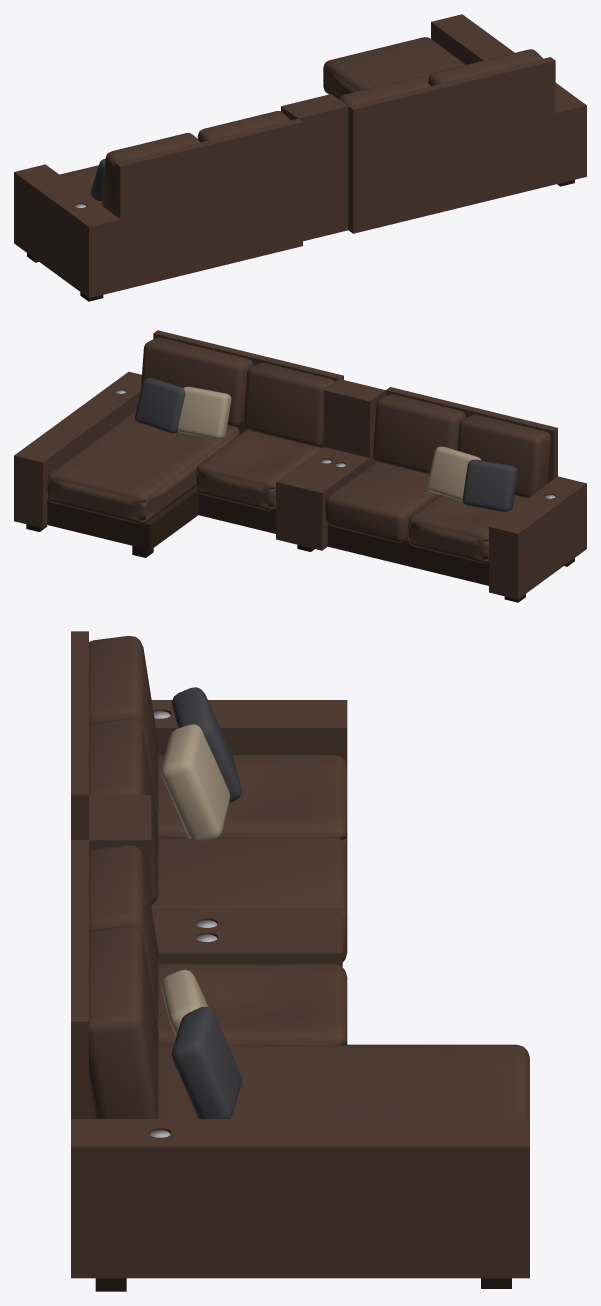
File: leather-sectional-A89EuPzt.glb
3 views of the same model, one above another, from view 1: azimuth 30°, elevation 25°; view 2: azimuth 150°, elevation 25°; view 3: azimuth 270°, elevation 25° (orthographic). The views are drawn at different scales.
Visible parts, largest first — view 1: LeatherSectional; view 2: LeatherSectional; view 3: LeatherSectional.
Part boxes in pixels (x1,y1,x2,y2): LeatherSectional: (14, 14, 586, 301); LeatherSectional: (14, 330, 586, 602); LeatherSectional: (71, 631, 529, 1291).
Bounding box in the file's own units: 4.75 × 1.23 × 2.06.
